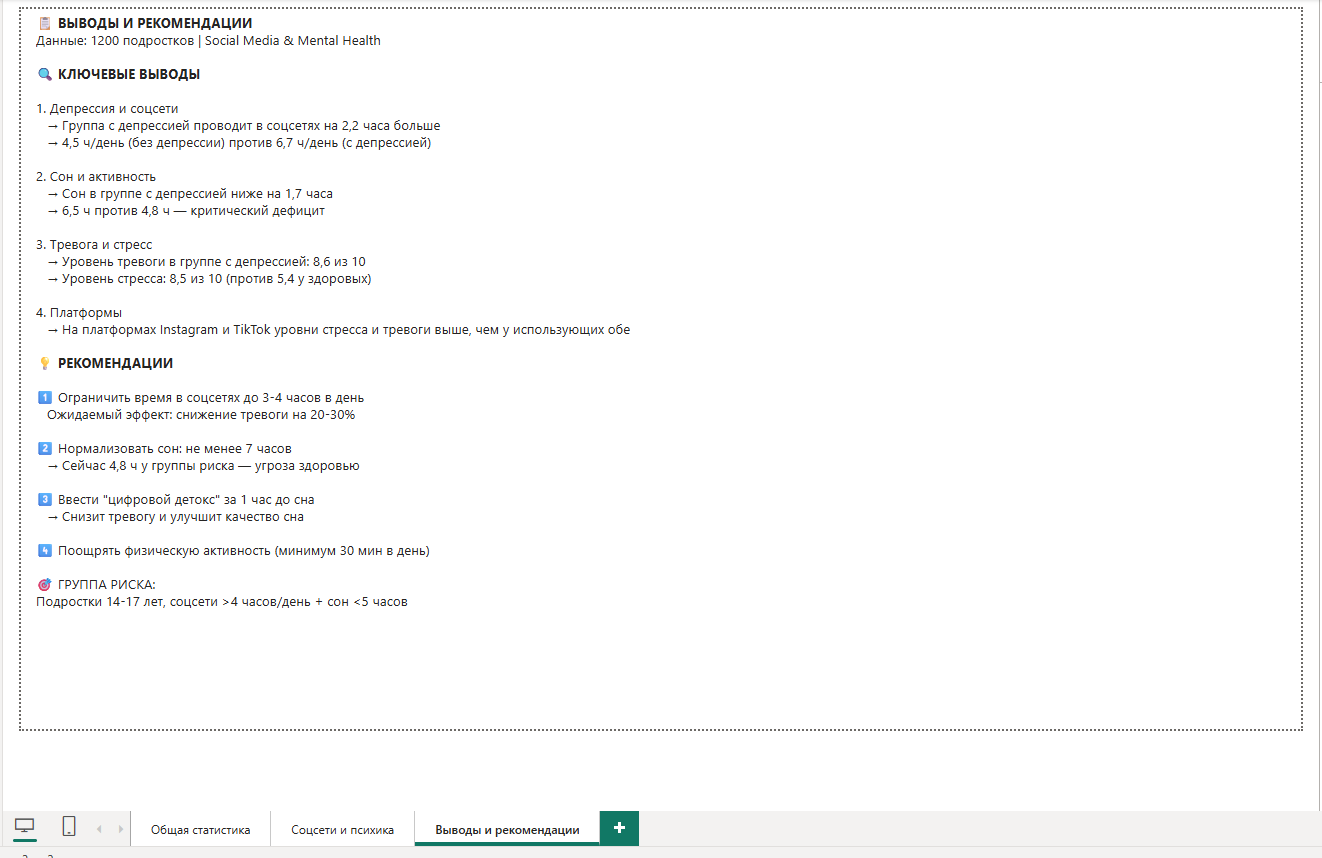

The page's visual inventory and layout, read from the dashboard file:
{"tool":"powerbi","page":{"name":"Выводы и рекомендации","canvas":[1280,720],"ordinal":2},"visuals":[{"type":"textbox","box":[10,0,1260,720],"z":0}]}

Visuals, with their boxes in screenshot pixels (x1, y1, x2, y2):
textbox: 17:3:1300:737
